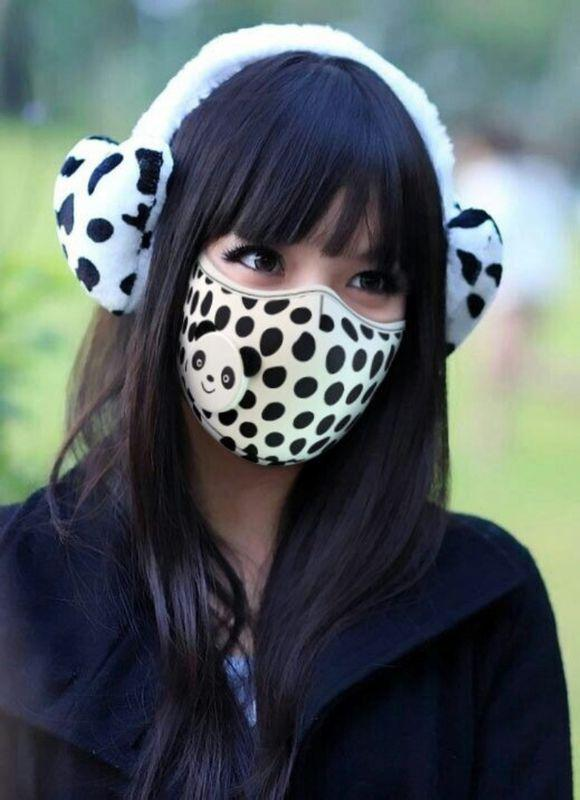OK: (184, 218, 428, 462)
